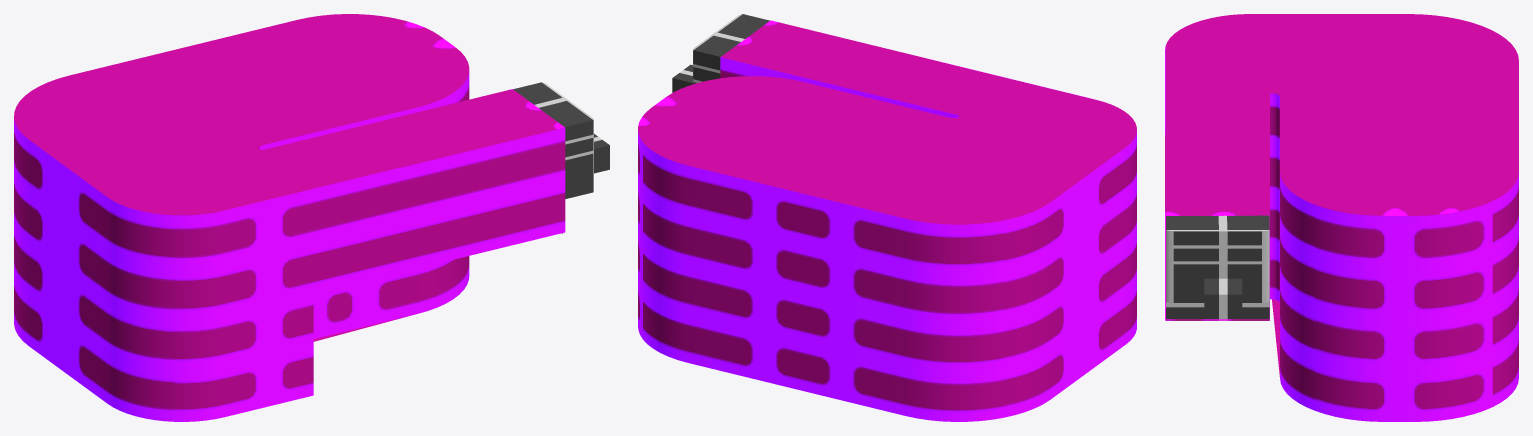
The model's file is MaxLevelRebuild1.fbx.
3 renders of one model, left to right at view 1: azimuth 30°, elevation 25°; view 2: azimuth 150°, elevation 25°; view 3: azimuth 270°, elevation 25°, orthographic. The views are drawn at different scales.
Visible parts, largest first — view 1: Plane.002, Plane; view 2: Plane.002, Plane; view 3: Plane.002, Plane.
Boxes of the visible parts, <box> form: Plane.002: <box>14,14,565,421</box>; Plane: <box>513,82,609,233</box>; Plane.002: <box>638,20,1136,421</box>; Plane: <box>672,14,769,92</box>; Plane.002: <box>1165,14,1518,421</box>; Plane: <box>1166,215,1269,320</box>.
Bounding box in the file's own units: 28721 × 11833 × 18422.
